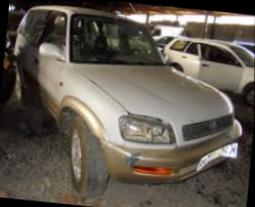Light: (120, 114, 172, 144)
